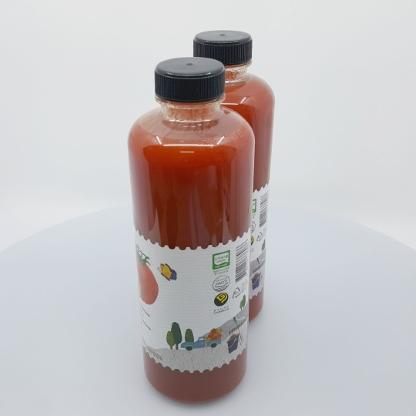-------------------900ML: (126, 57, 255, 404), (168, 30, 274, 324)
